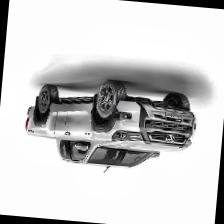NON-EV: (21, 71, 201, 183)
